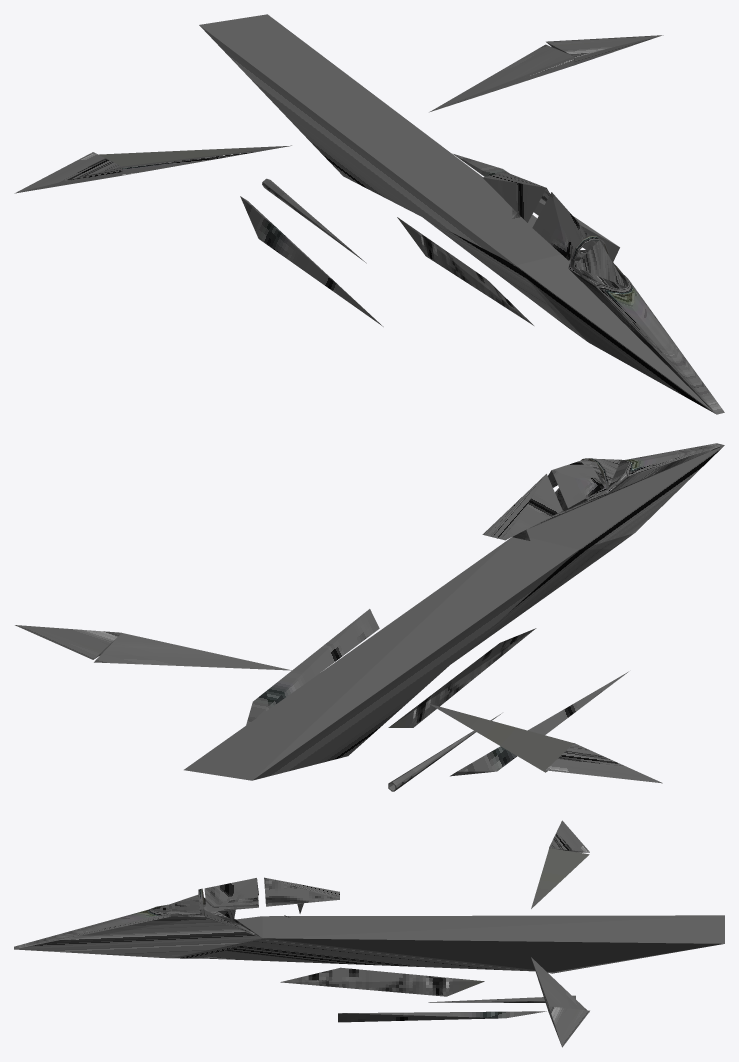
3 renders of one model, top to bottom at view 1: azimuth 30°, elevation 25°; view 2: azimuth 150°, elevation 25°; view 3: azimuth 270°, elevation 25°, orthographic. The views are drawn at different scales.
Visible parts, largest first — view 1: Object_6, Object_10, Object_4; view 2: Object_6, Object_10, Object_4; view 3: Object_6, Object_10, Object_4.
Boxes of the visible parts, bbox=[...] form: Object_6: bbox=[14, 14, 724, 414]; Object_10: bbox=[240, 153, 619, 326]; Object_4: bbox=[482, 172, 626, 286]; Object_6: bbox=[15, 443, 724, 783]; Object_10: bbox=[246, 609, 628, 791]; Object_4: bbox=[482, 458, 620, 540]; Object_6: bbox=[14, 820, 724, 1047]; Object_10: bbox=[280, 967, 575, 1022]; Object_4: bbox=[153, 877, 339, 923].
Size of the model in its own units: 12.86 by 3.08 by 16.98.
1 material, 1 textured.
